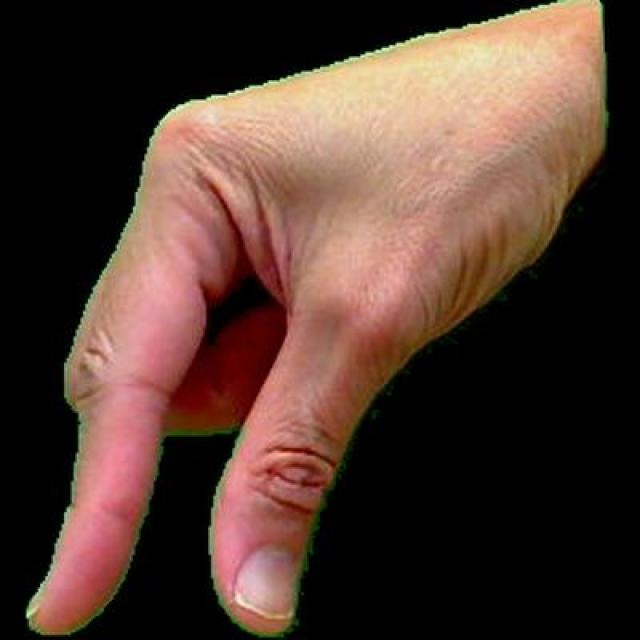q: (19, 0, 613, 637)
